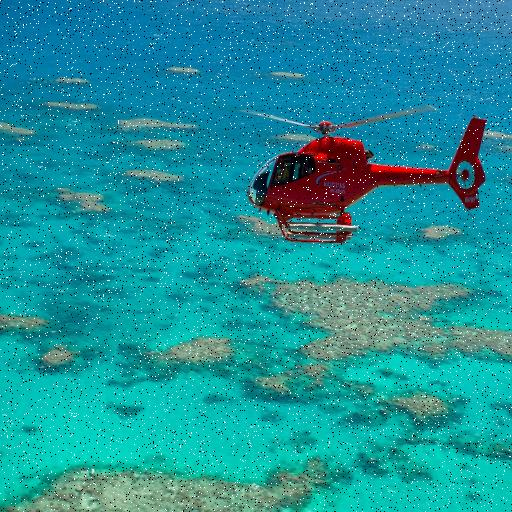helicopter: (242, 111, 489, 245)
